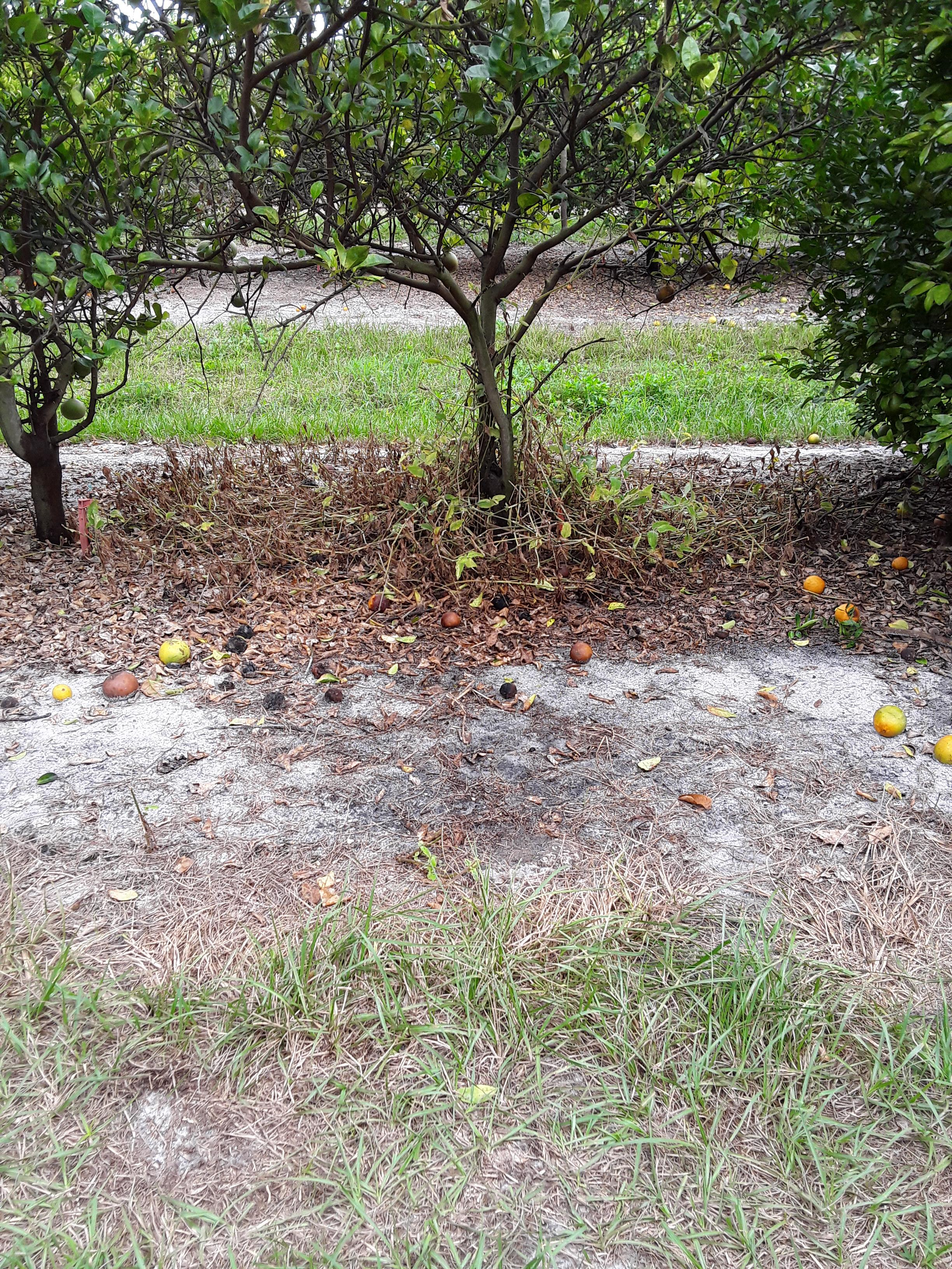fruit_on_ground: (60, 392, 90, 422), (75, 79, 100, 110), (698, 258, 725, 284), (71, 352, 97, 379), (437, 250, 460, 277), (202, 243, 226, 268), (878, 392, 905, 414), (654, 281, 677, 304), (327, 175, 348, 197), (195, 238, 215, 259), (221, 238, 239, 260), (230, 291, 247, 308)
fruit_on_tree: (100, 671, 142, 701), (156, 639, 195, 668), (877, 702, 906, 738), (569, 640, 596, 668), (833, 603, 861, 627), (261, 690, 288, 712), (803, 573, 828, 596), (366, 591, 391, 612), (226, 634, 251, 655), (51, 683, 74, 704), (439, 610, 463, 630), (935, 735, 949, 769), (497, 681, 519, 701), (235, 622, 254, 643), (324, 687, 344, 705), (488, 590, 505, 611), (900, 646, 919, 664), (895, 499, 912, 519), (891, 555, 912, 571), (746, 436, 763, 448), (808, 433, 824, 445), (668, 437, 684, 448)
